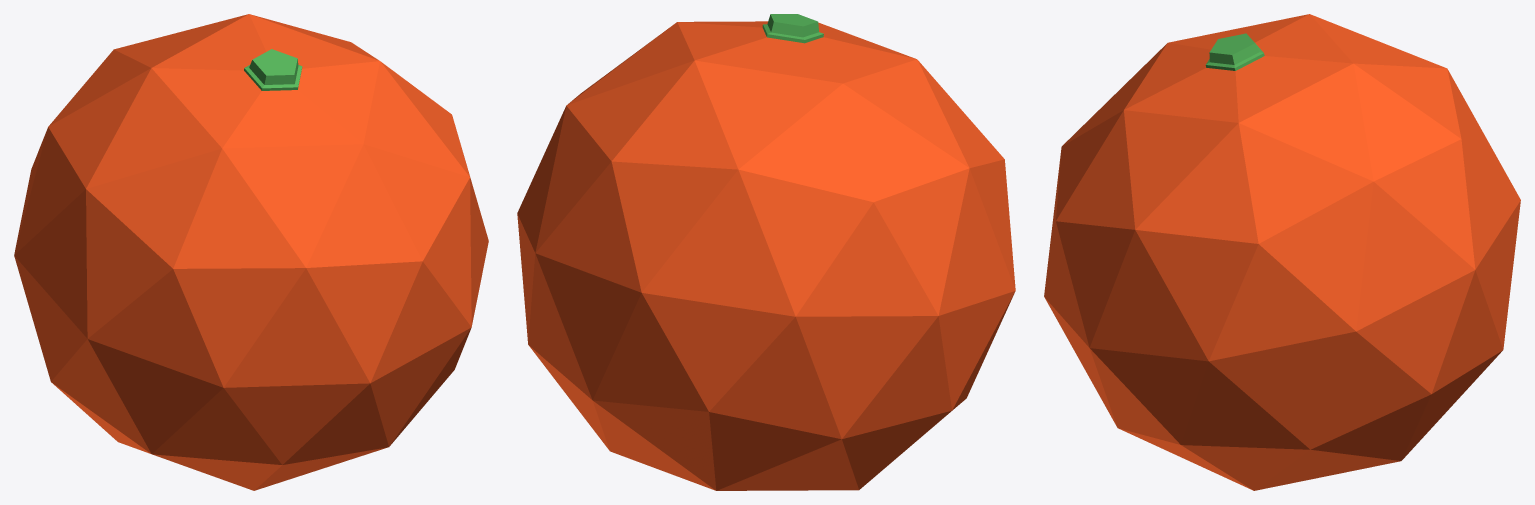
Rendered from Orange_01.gltf.
3 renders of one model, left to right at view 1: azimuth 30°, elevation 25°; view 2: azimuth 150°, elevation 25°; view 3: azimuth 270°, elevation 25°, orthographic. The views are drawn at different scales.
Visible parts, largest first — view 1: node-0; view 2: node-0; view 3: node-0.
Boxes of the visible parts, x1,y1,x2,y2 form: node-0: (14,14,488,490); node-0: (517,14,1015,490); node-0: (1044,14,1520,490).
Size of the model in its own units: 10.09 by 9.97 by 10.36.
